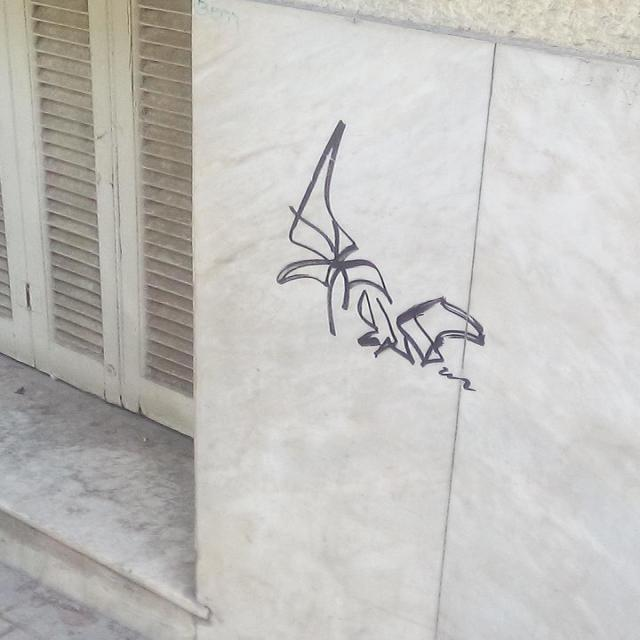nonspitting: (274, 117, 484, 394)
